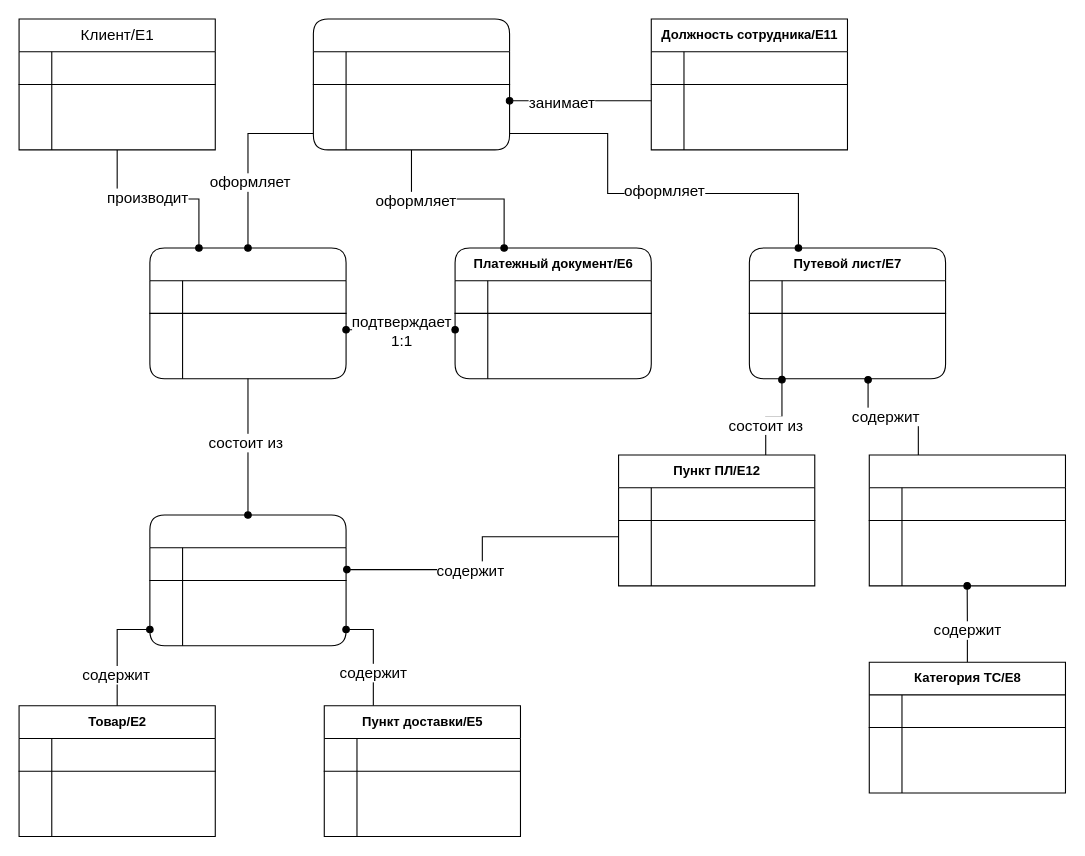
Some shapes in this 1085 by 856 pixel diagram are drawn without their labels. Each missing label, with the box of its shape:
Заказ/Е3: (149, 247, 346, 379)
Место в заказе/Е4: (149, 514, 346, 646)
Сотрудник/Е10: (312, 18, 510, 150)
ТС/Е9: (868, 454, 1065, 586)
